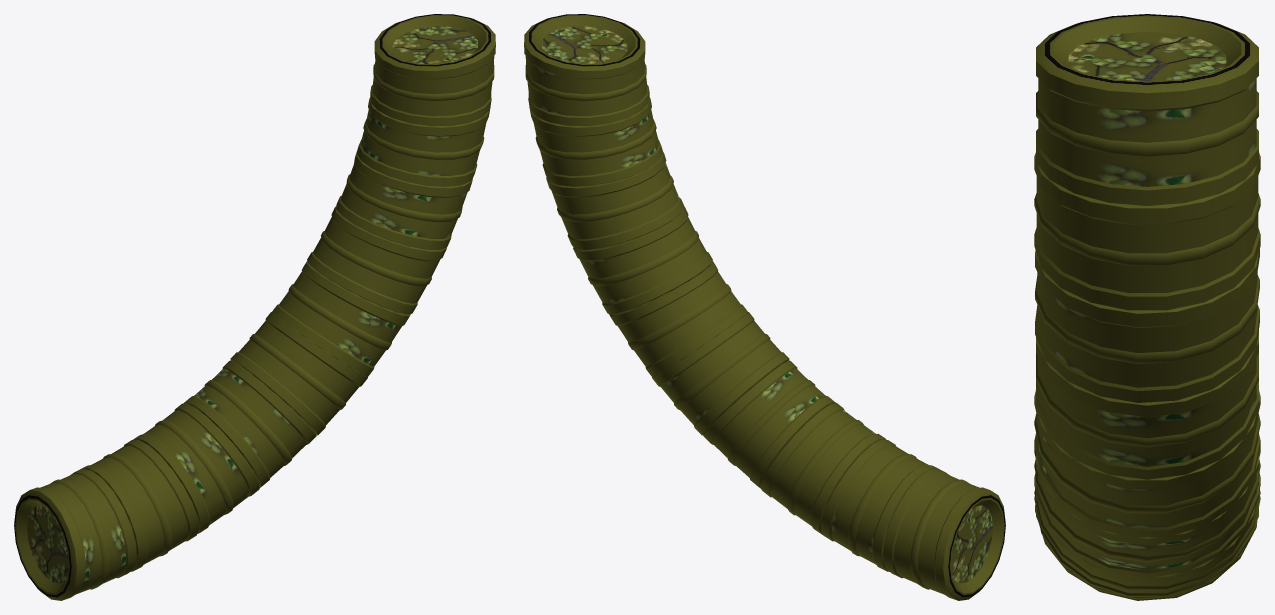
The model's file is pipe_a_90.FBX.
The picture shows the model from 3 angles, left to right: view 1: azimuth 30°, elevation 25°; view 2: azimuth 150°, elevation 25°; view 3: azimuth 270°, elevation 25°; orthographic projection. The views are drawn at different scales.
Parts seen in each view (by area): view 1: pipe_a_90; view 2: pipe_a_90; view 3: pipe_a_90.
Part boxes in pixels (x1=…): pipe_a_90: x1=14, y1=14, x2=495, y2=600; pipe_a_90: x1=524, y1=14, x2=1005, y2=600; pipe_a_90: x1=1034, y1=14, x2=1260, y2=600.
Bounding box in the file's own units: 6.21 × 1.51 × 6.19.
